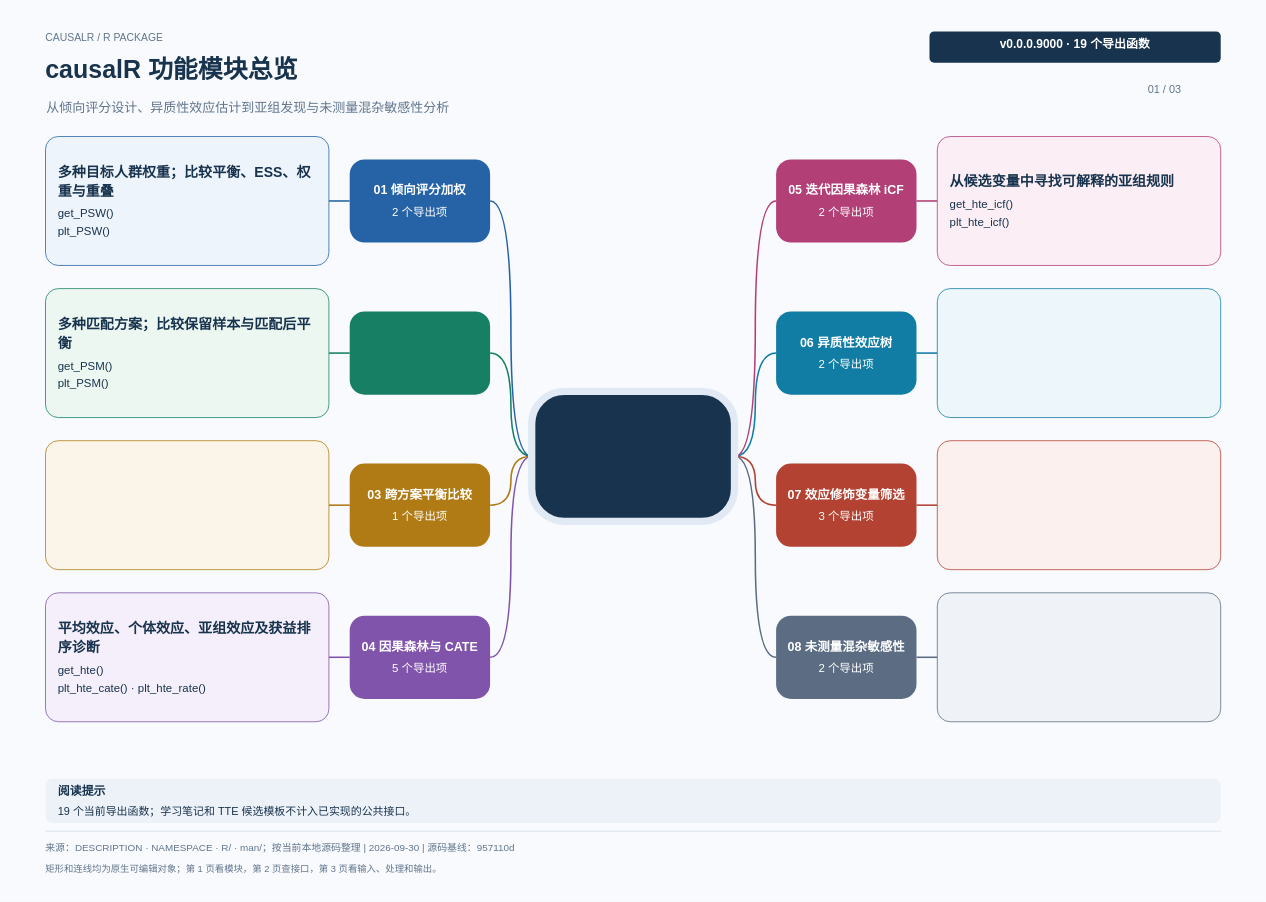
Image size: 1266x902. Some labels were removed from this diagram. Each missing label, with the centre of its shape:
02 倾向评分匹配 2 个导出项: pixel 419 352
causalR 观察性研究 因果推断与效应异质性: pixel 633 456
单变量 TEM-VIP 投影；固定排序的收益评分累积 get_hte_unihtee() get_hte_select(): pixel 1079 505
在同一数据上比较匹配与加权；统一 love plot get_bal(): pixel 187 505
多种递归分割方法；输出节点与叶规则 get_hte_tree() plt_hte_tree(): pixel 1079 353
统一线性、Cox、DML、IV 分析结果与图形 get_sens() plt_sens(): pixel 1079 657
